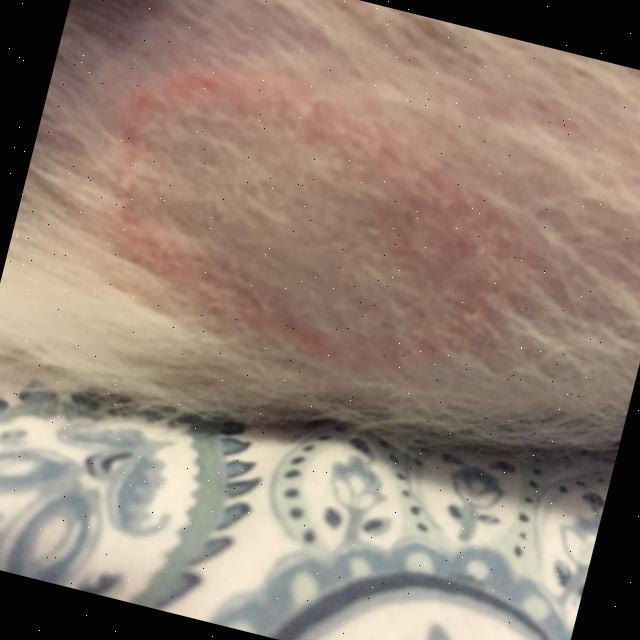cat-hairloss: (68, 43, 554, 409)
